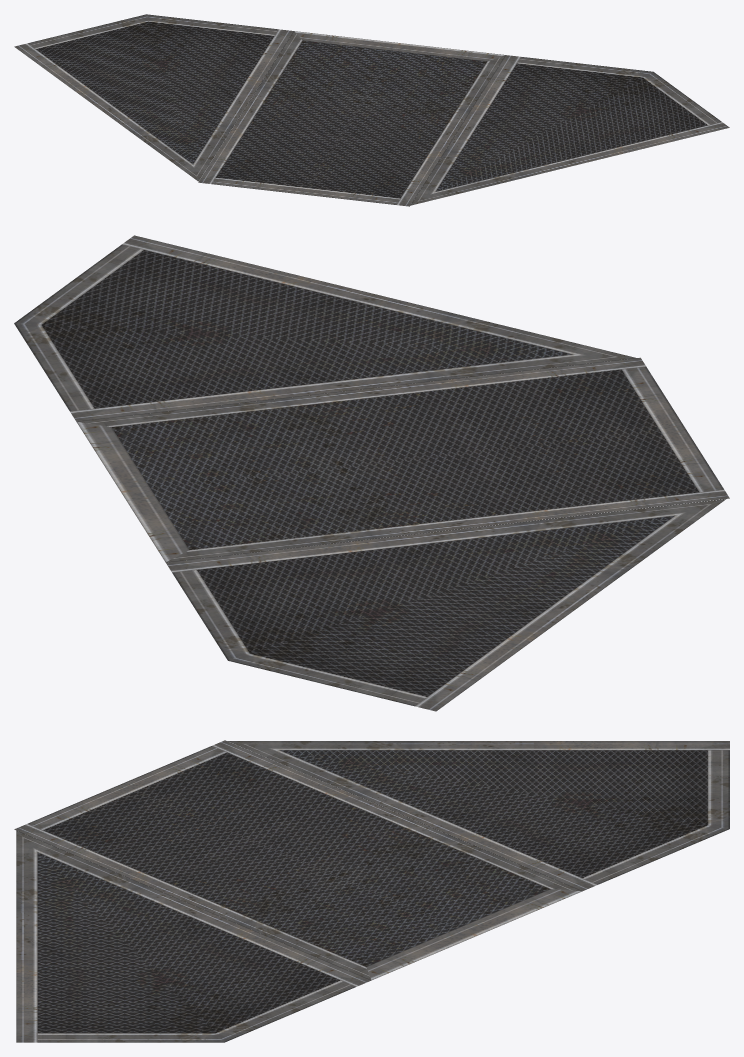
File: Floor_G_2'5qmts_01.fbx
3 renders of one model, top to bottom at view 1: azimuth 30°, elevation 25°; view 2: azimuth 150°, elevation 25°; view 3: azimuth 270°, elevation 25°, orthographic. The views are drawn at different scales.
Parts seen in each view (by area): view 1: Floor_G_2'5qmts_01; view 2: Floor_G_2'5qmts_01; view 3: Floor_G_2'5qmts_01.
Part boxes in pixels (x1=…): Floor_G_2'5qmts_01: x1=14, y1=14, x2=729, y2=206; Floor_G_2'5qmts_01: x1=14, y1=235, x2=729, y2=711; Floor_G_2'5qmts_01: x1=14, y1=740, x2=729, y2=1042.
Bounding box in the file's own units: 283 × 0.000207 × 283.
1 material, 1 textured.
